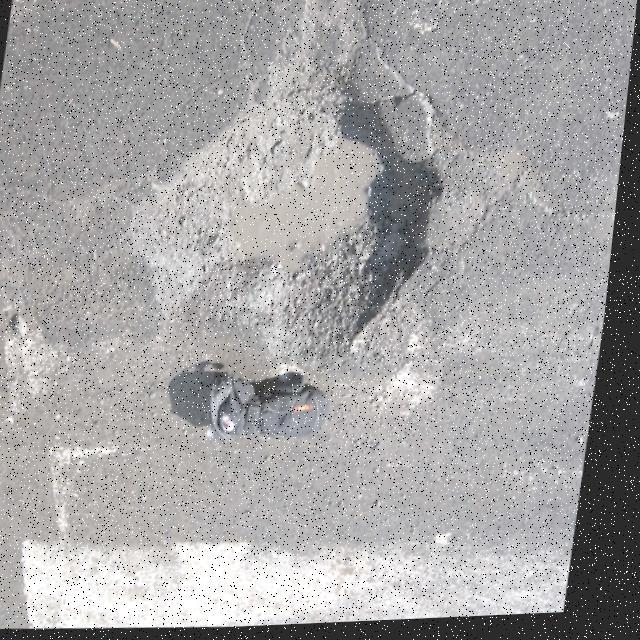pothole: (150, 0, 474, 373)
